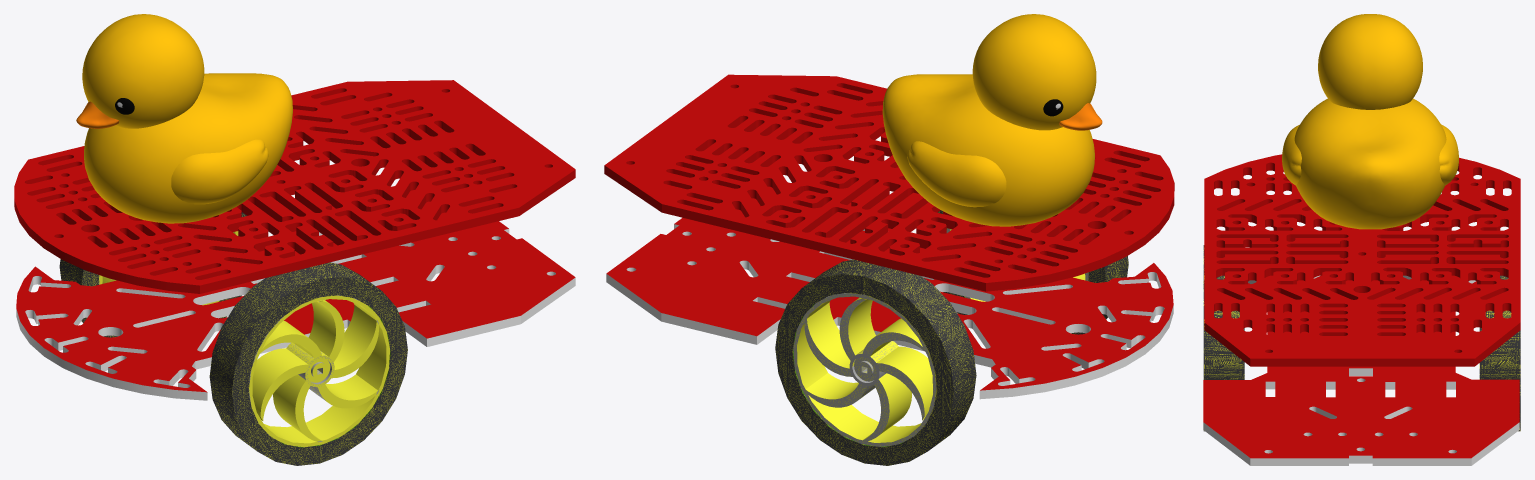
File: duckiebot.dae
3 views of the same model, side by side, from view 1: azimuth 30°, elevation 25°; view 2: azimuth 150°, elevation 25°; view 3: azimuth 270°, elevation 25° (orthographic). The views are drawn at different scales.
Parts seen in each view (by area): view 1: Group_2, RedBotMagicianChassisBottom (×2), medium_wheel (×10), group_2, group_5, wing_1, group_1; view 2: Group_2, RedBotMagicianChassisBottom (×2), medium_wheel (×10), group_2, group_5, wing_1, group_1; view 3: Group_2 (×2), RedBotMagicianChassisBottom (×2), group_2, group_5, medium_wheel (×2), wing_1 (×2).
Boxes of the visible parts, <box> form: Group_2: <box>14,80,575,293</box>; RedBotMagicianChassisBottom (×2): <box>16,190,575,400</box>; medium_wheel (×10): <box>59,212,407,465</box>; group_2: <box>84,73,292,223</box>; group_5: <box>82,14,204,128</box>; wing_1: <box>171,139,268,204</box>; group_1: <box>76,101,118,128</box>; Group_2: <box>604,74,1174,291</box>; RedBotMagicianChassisBottom (×2): <box>606,186,1173,399</box>; medium_wheel (×10): <box>775,210,1128,465</box>; group_2: <box>882,74,1094,226</box>; group_5: <box>972,14,1096,130</box>; wing_1: <box>907,141,1006,207</box>; group_1: <box>1059,103,1102,130</box>; Group_2 (×2): <box>1204,154,1520,366</box>; RedBotMagicianChassisBottom (×2): <box>1203,275,1519,465</box>; group_2: <box>1294,98,1446,229</box>; group_5: <box>1318,14,1422,109</box>; medium_wheel (×2): <box>1203,245,1520,431</box>; wing_1 (×2): <box>1282,124,1458,185</box>.
Size of the model in its own units: 6.85 by 4.34 by 5.51.
9 materials, 1 textured.
